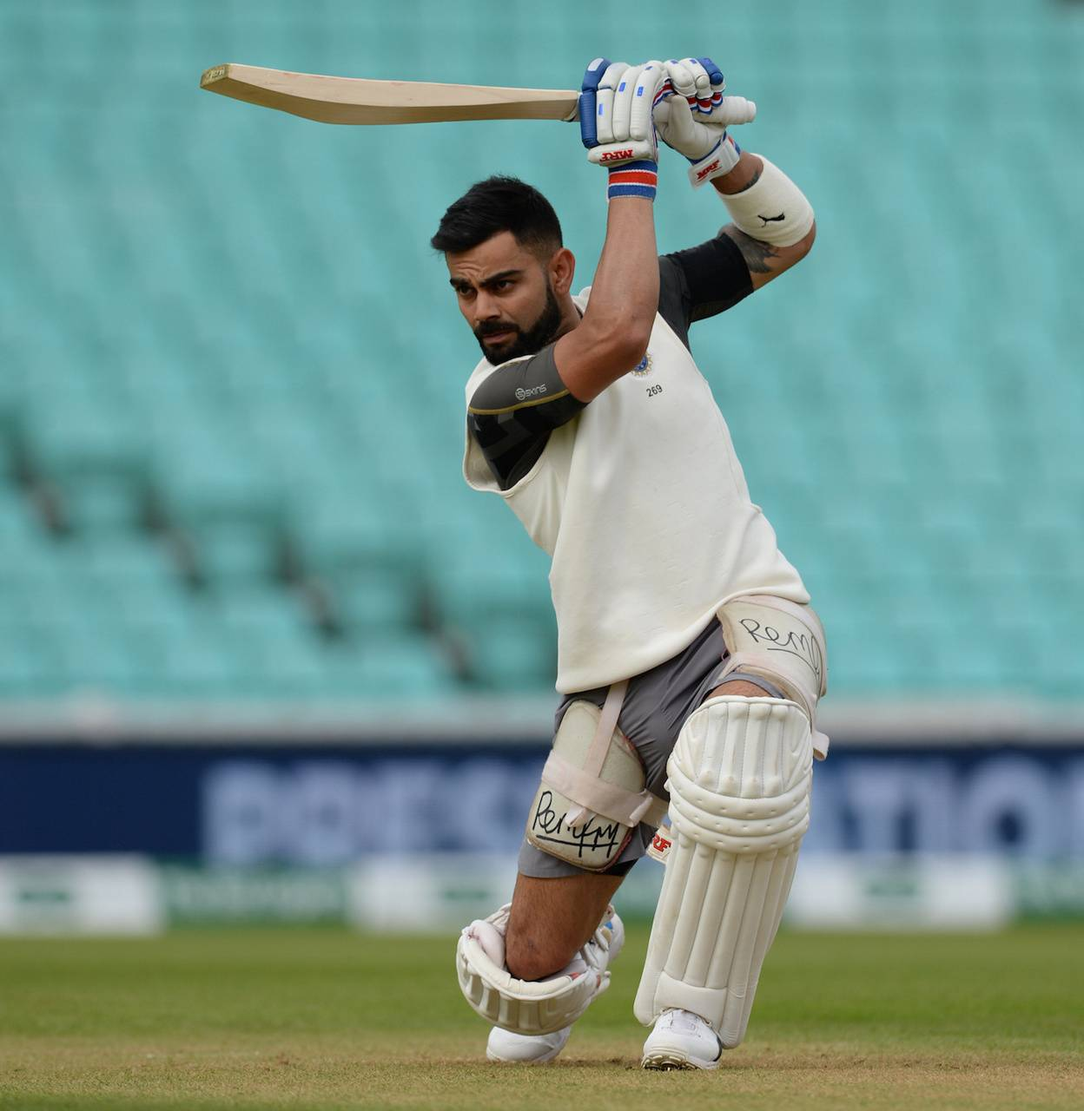Defence: (169, 0, 962, 1107)
